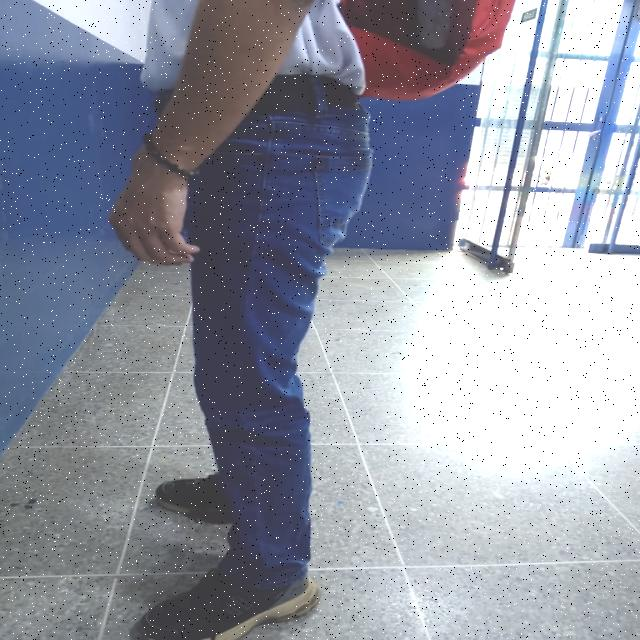pantalon_oscuro: (190, 94, 372, 579)
